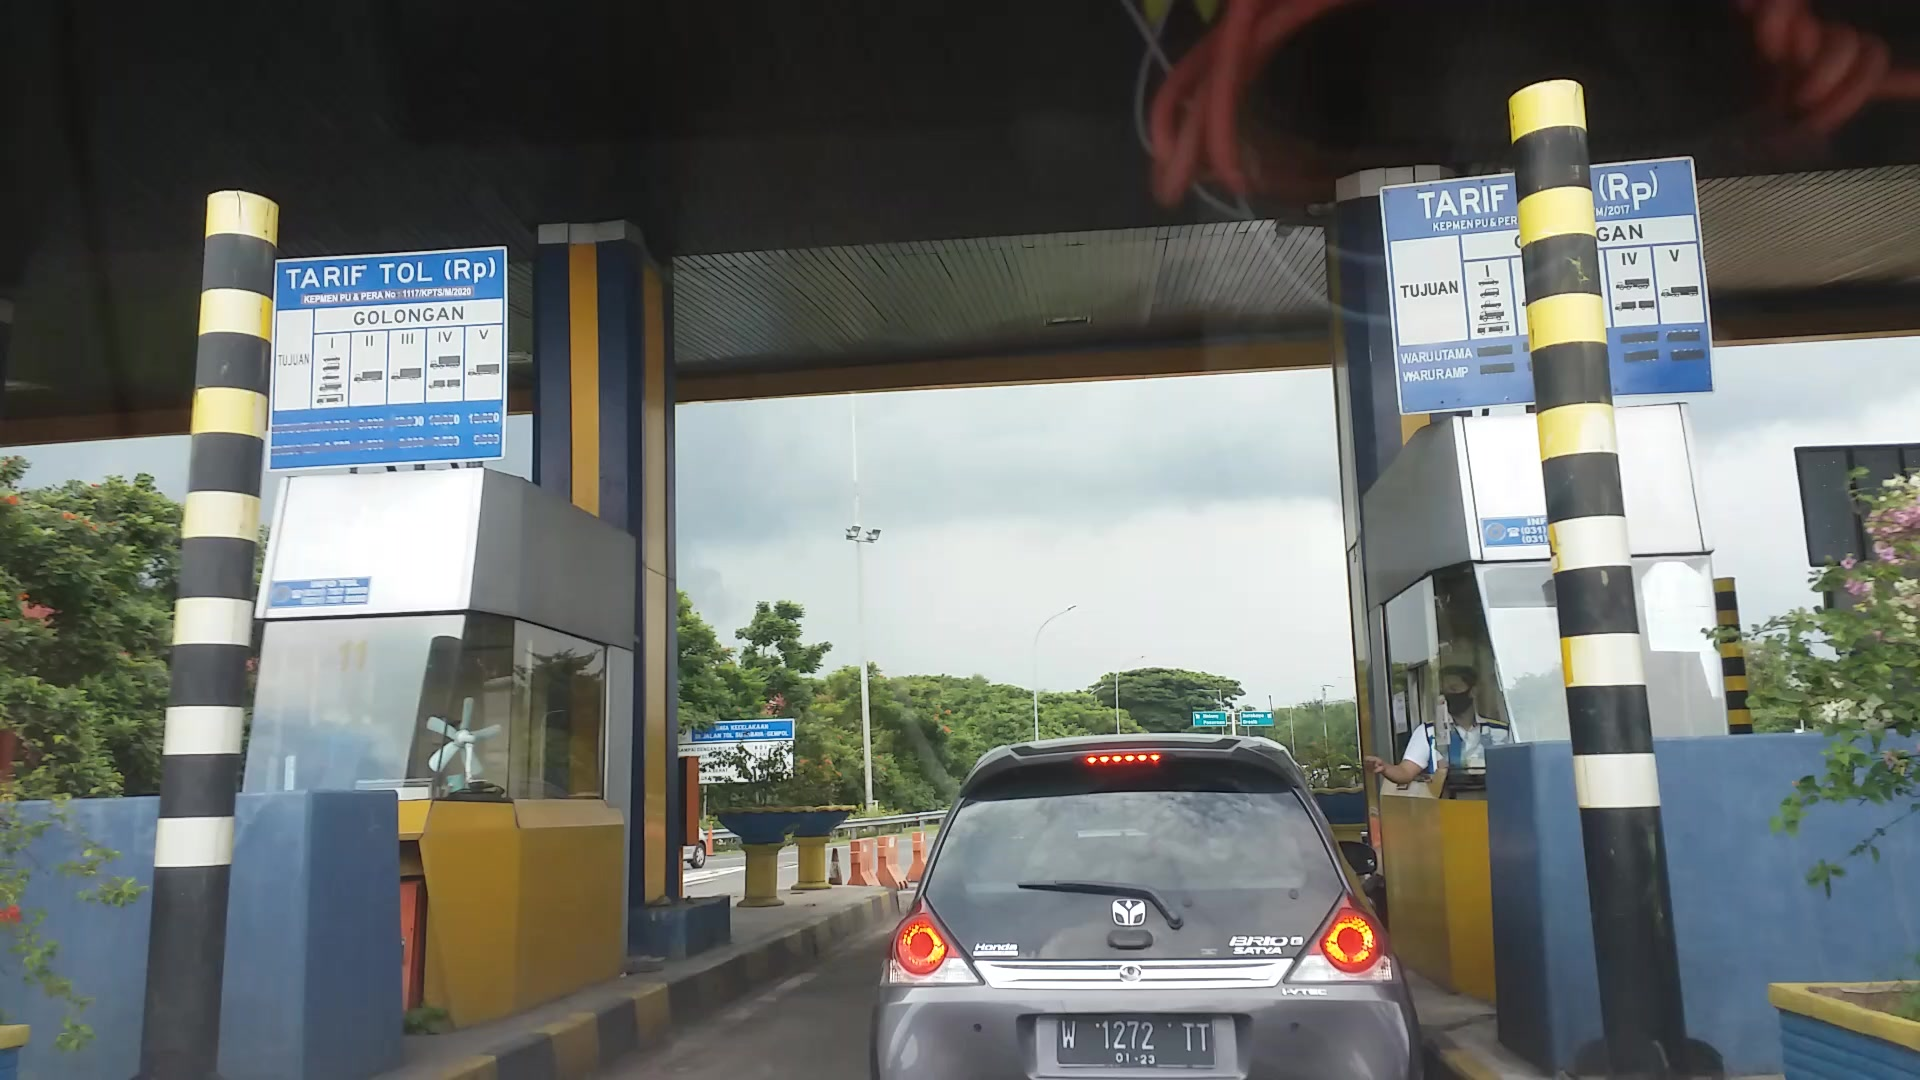plate_positive: (1058, 1014, 1215, 1067)
